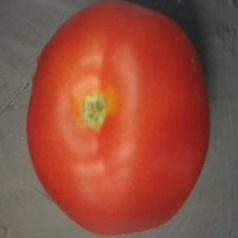unripe: (22, 0, 213, 238)
